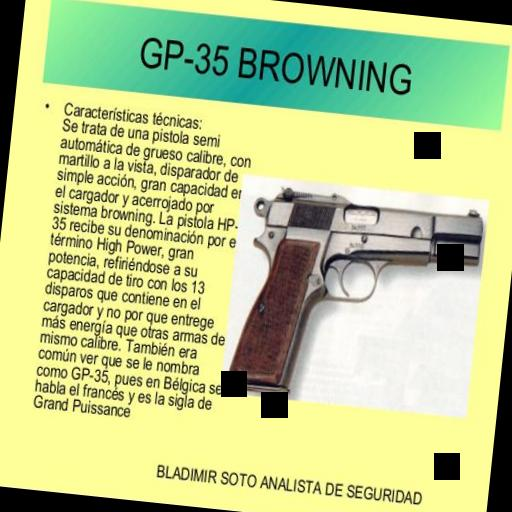Handgun: (228, 178, 484, 407)
